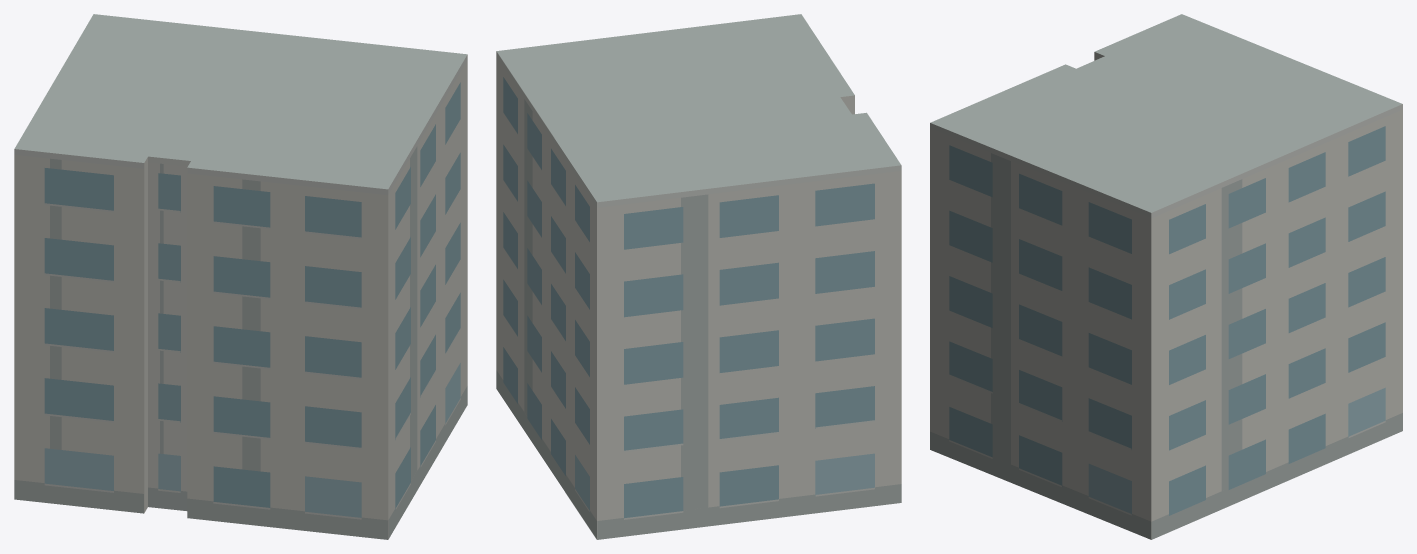
The model's file is survey-upis-32988806.glb.
The picture shows the model from 3 angles, left to right: view 1: azimuth 30°, elevation 25°; view 2: azimuth 150°, elevation 25°; view 3: azimuth 270°, elevation 25°; orthographic projection. The views are drawn at different scales.
Visible parts, largest first — view 1: survey-upis-32988806.tmp; view 2: survey-upis-32988806.tmp; view 3: survey-upis-32988806.tmp.
Boxes of the visible parts, <box> form: survey-upis-32988806.tmp: <box>14,14,467,539</box>; survey-upis-32988806.tmp: <box>496,14,901,539</box>; survey-upis-32988806.tmp: <box>930,14,1402,539</box>.
Bounding box in the file's own units: 19.06 × 14.6 × 19.14.
